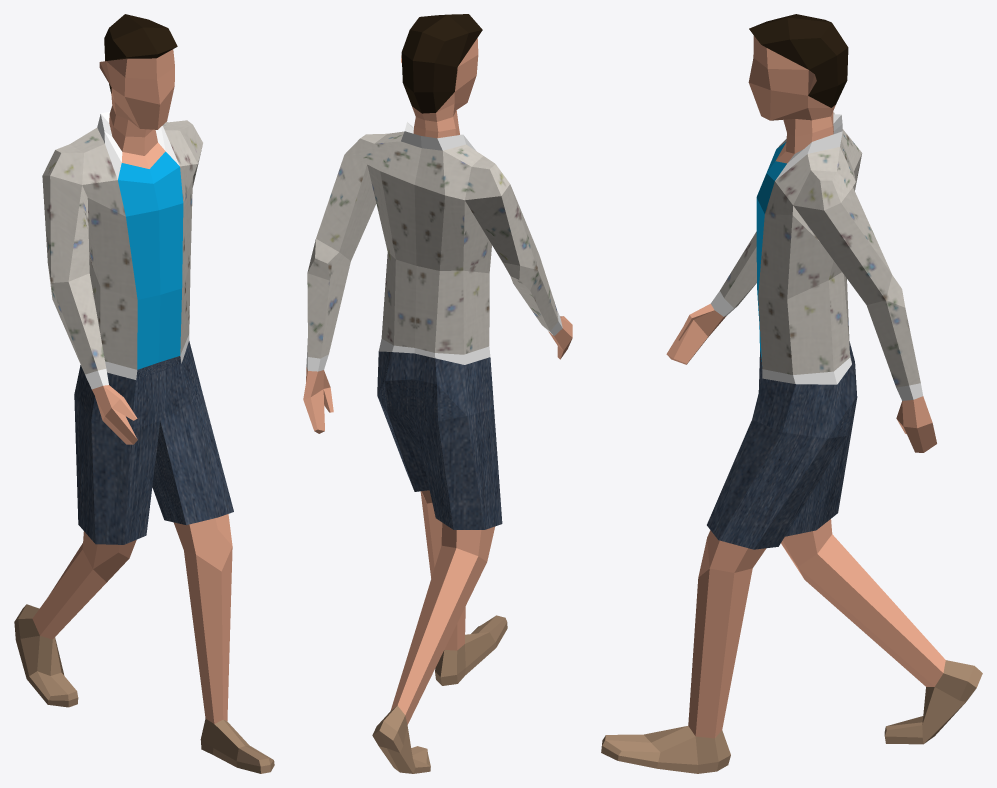
File: SpringManA.003.glb
The picture shows the model from 3 angles, left to right: view 1: azimuth 30°, elevation 25°; view 2: azimuth 150°, elevation 25°; view 3: azimuth 270°, elevation 25°; orthographic projection. The views are drawn at different scales.
Parts seen in each view (by area): view 1: SpringManA.003; view 2: SpringManA.003; view 3: SpringManA.003.
Part boxes in pixels (box(x1,y1,x2,y2)): SpringManA.003: box(14, 14, 274, 773); SpringManA.003: box(303, 14, 572, 773); SpringManA.003: box(601, 14, 982, 773).
Size of the model in its own units: 0.4535 by 1.71 by 0.8018.
1 material, 1 textured.
